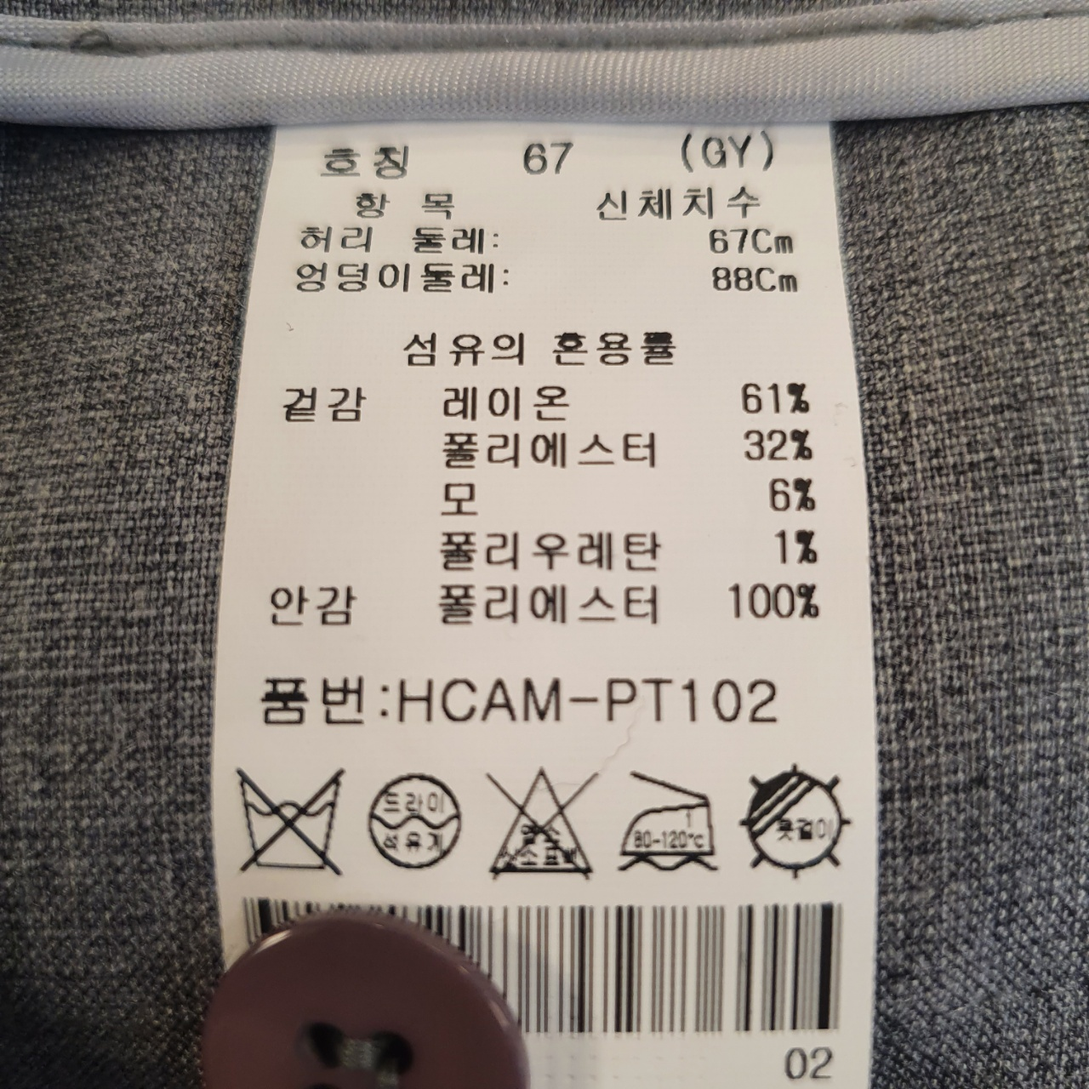KR_dry_clean_petroleum: (356, 764, 467, 873)
KR_hang_dry_in_shade: (737, 760, 848, 875)
KR_iron_low_temp_with_cloth: (606, 764, 726, 886)
KR_no_bleach: (475, 760, 600, 885)
KR_no_wash: (233, 757, 348, 881)
